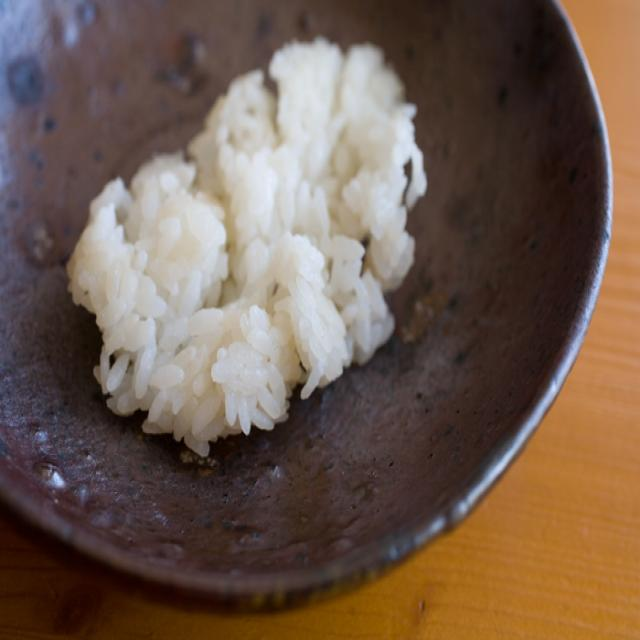rice: (116, 70, 408, 410)
